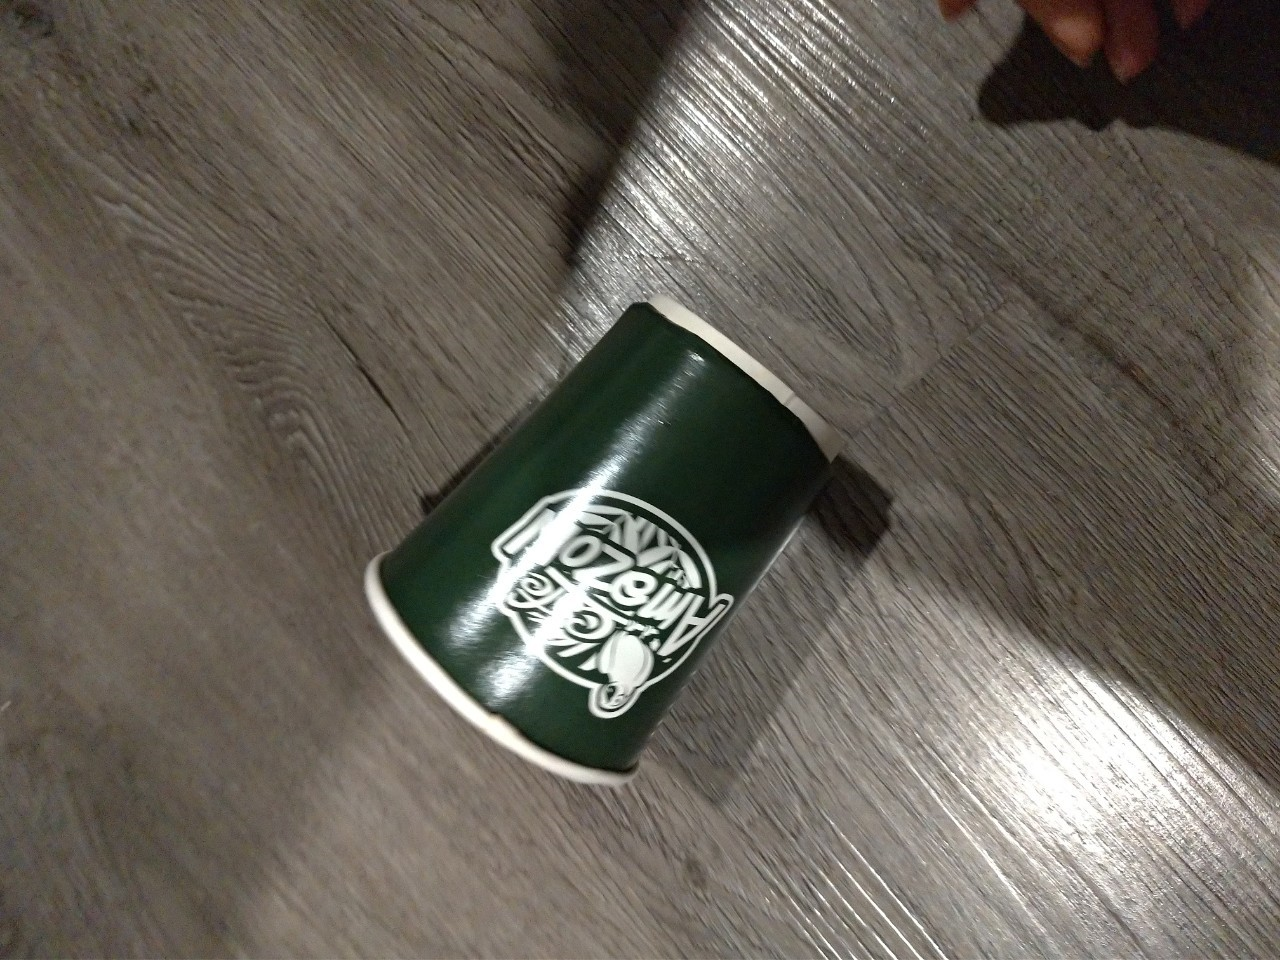PaperCup: (354, 292, 839, 781)
